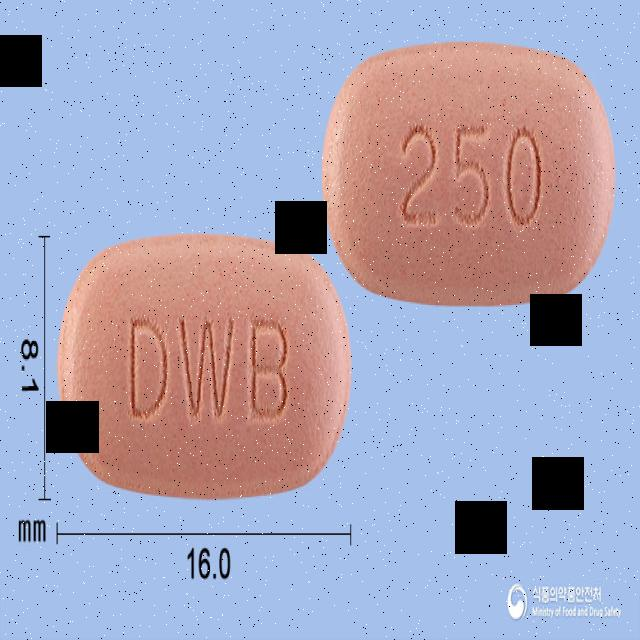Ciflox - 250mg: (57, 234, 350, 500), (323, 40, 615, 306)
